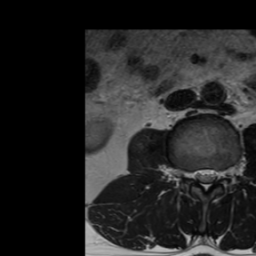CCS_normal: (202, 162, 209, 197)
LFS_normal: (218, 164, 226, 186)
LLS_normal: (209, 164, 218, 188)
RFS_normal: (185, 164, 195, 185)
RLS_normal: (194, 164, 202, 188)
